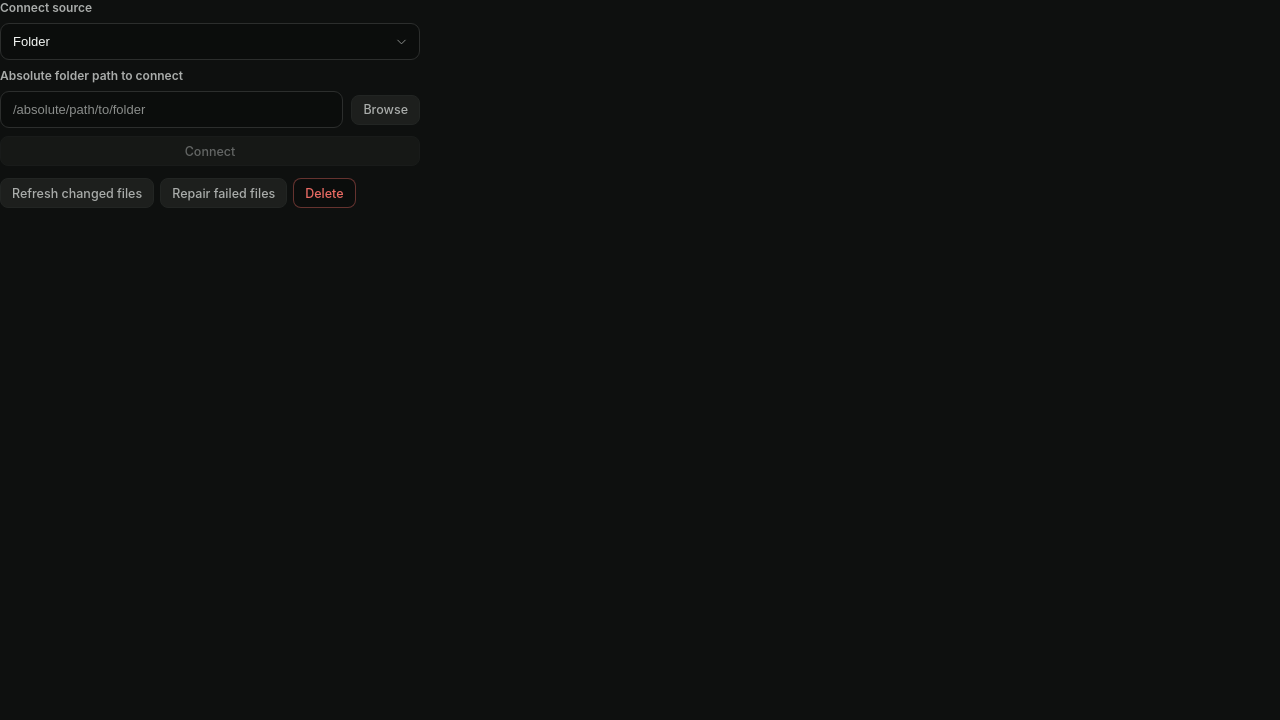
Test case: CapsuleActions — modal open and close › opens the delete modal when Delete is clicked
Click the button with aria-label "delete capsule". click: (324, 193)
box: [293,178,356,208]
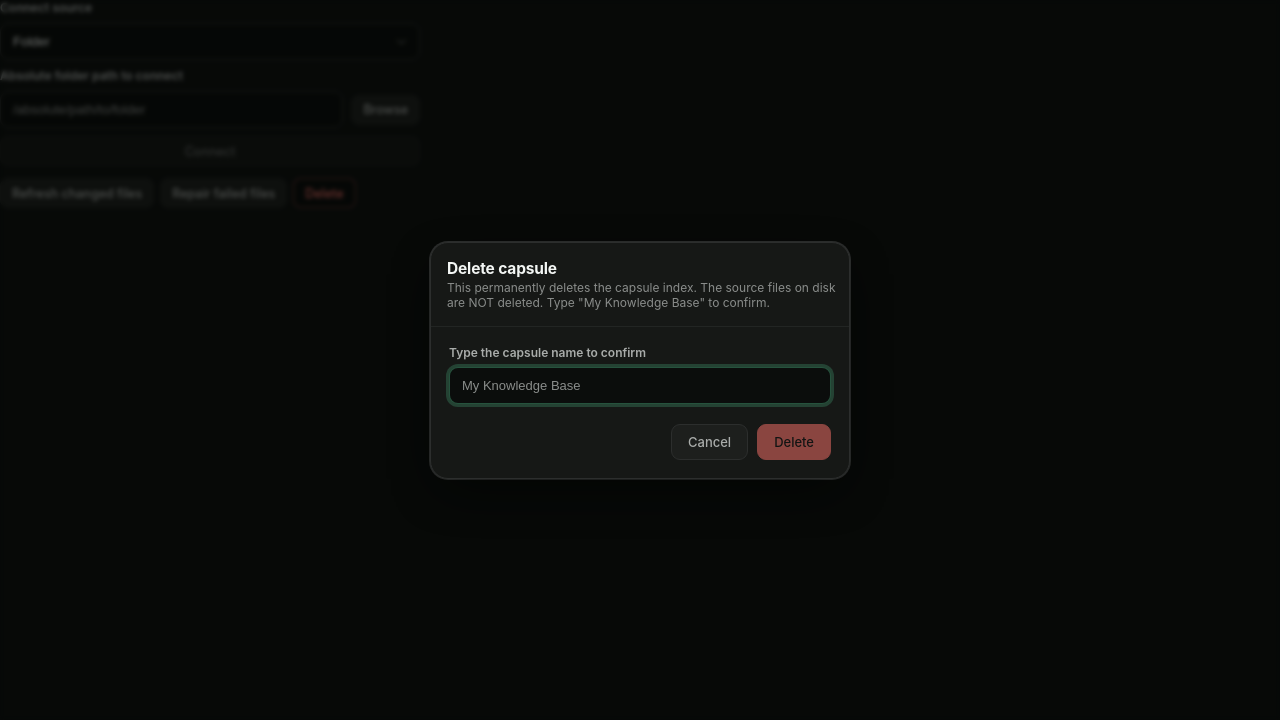
Check: the dialog is shown, box [430,242,850,478]
Check: the text "Delete capsule" is shown, box [447,258,557,278]
